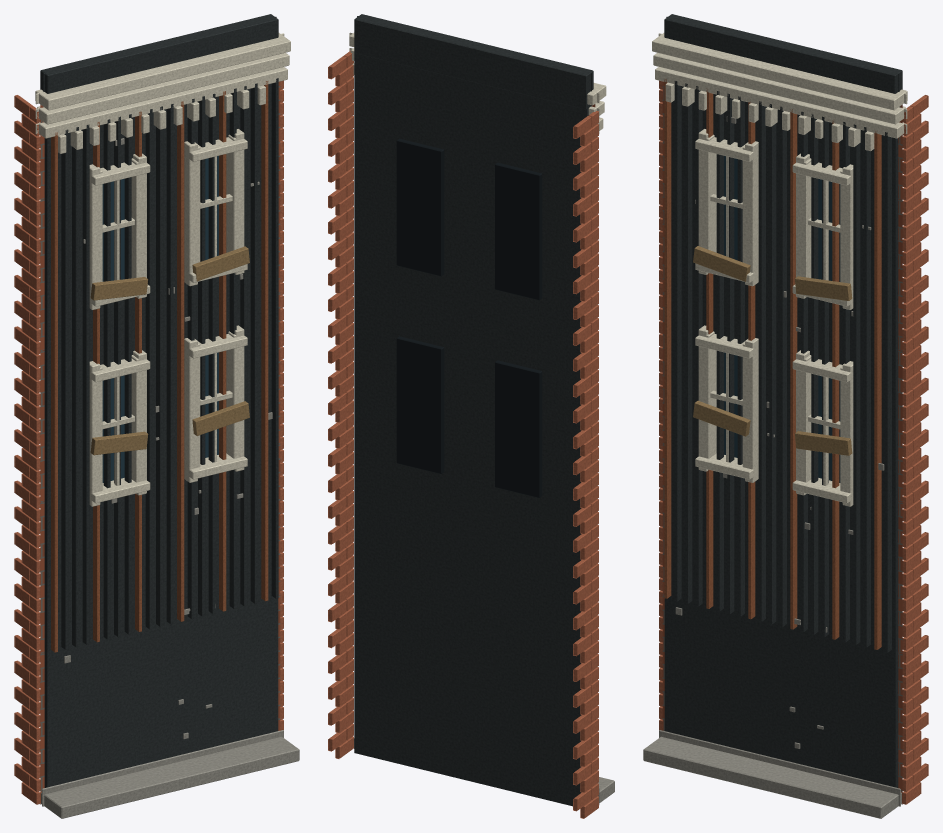
Rendered from WRHS8_lod0.glb.
The picture shows the model from 3 angles, left to right: view 1: azimuth 30°, elevation 25°; view 2: azimuth 150°, elevation 25°; view 3: azimuth 330°, elevation 25°; orthographic projection.
Parts seen in each view (by area): view 1: WRHS8_FRONT_LOD0; view 2: WRHS8_FRONT_LOD0; view 3: WRHS8_FRONT_LOD0.
Boxes of the visible parts, <box> form: WRHS8_FRONT_LOD0: <box>14,14,299,818</box>; WRHS8_FRONT_LOD0: <box>328,14,614,818</box>; WRHS8_FRONT_LOD0: <box>643,14,928,818</box>.
Size of the model in its own units: 3.44 by 9.66 by 1.02.
12 materials, 10 textured.
